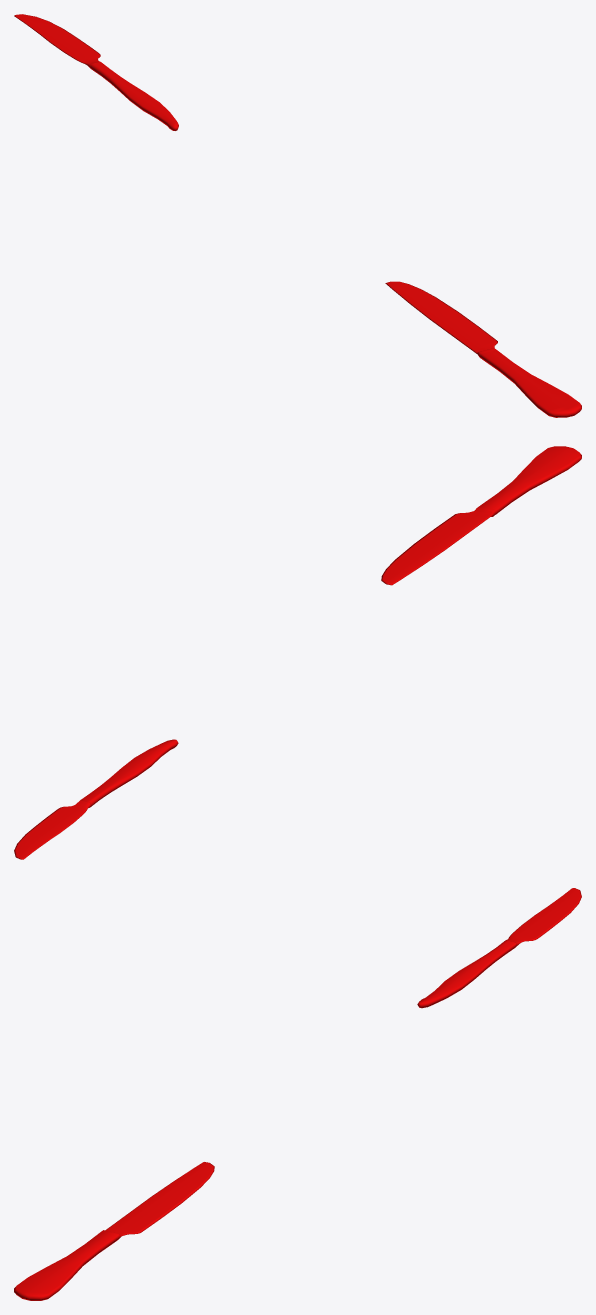
Rendered from thorkea_butter_knives_grp.fbx.
3 renders of one model, top to bottom at view 1: azimuth 30°, elevation 25°; view 2: azimuth 150°, elevation 25°; view 3: azimuth 330°, elevation 25°, orthographic.
Visible parts, largest first — view 1: thorkea_butter_knife_ai2_1, thorkea_butter_knife_ai2_2; view 2: thorkea_butter_knife_ai2_1, thorkea_butter_knife_ai2_2; view 3: thorkea_butter_knife_ai2_1, thorkea_butter_knife_ai2_2.
Boxes of the visible parts, left/top/right/bottom form: thorkea_butter_knife_ai2_1: left=385, top=281, right=581, bottom=417; thorkea_butter_knife_ai2_2: left=14, top=14, right=178, bottom=130; thorkea_butter_knife_ai2_1: left=381, top=446, right=581, bottom=585; thorkea_butter_knife_ai2_2: left=14, top=739, right=178, bottom=859; thorkea_butter_knife_ai2_1: left=14, top=1162, right=214, bottom=1300; thorkea_butter_knife_ai2_2: left=417, top=888, right=581, bottom=1008.
Size of the model in its own units: 2.93 by 0.4235 by 72.53.
